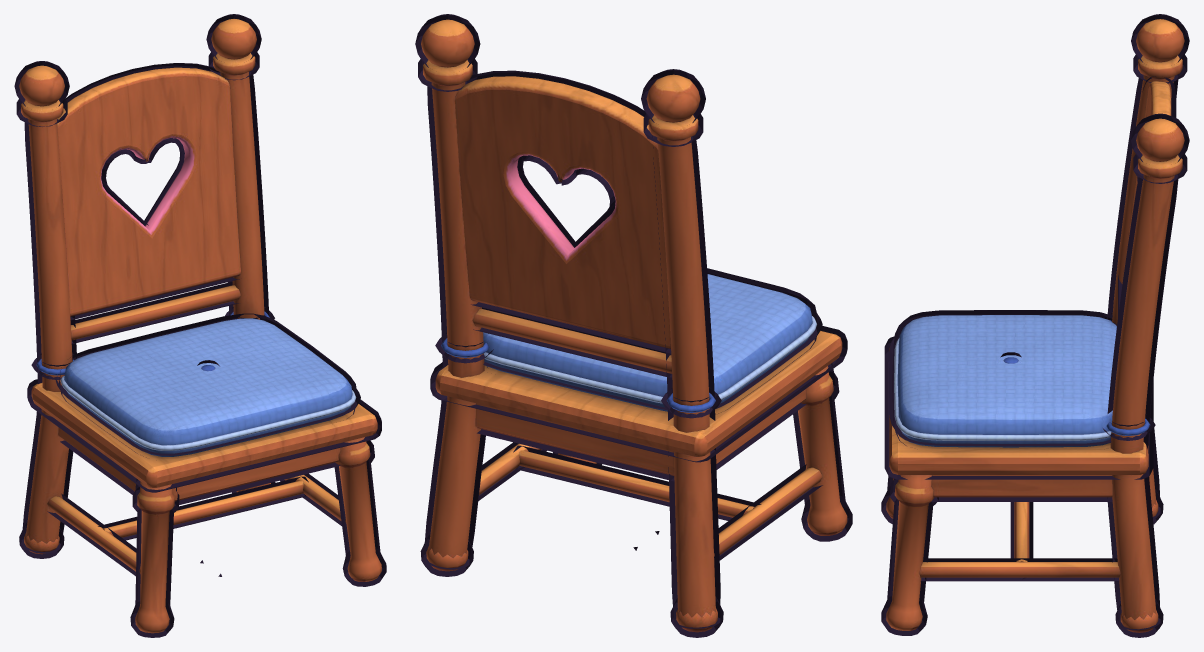
The model's file is DeskChair.glb.
3 renders of one model, left to right at view 1: azimuth 30°, elevation 25°; view 2: azimuth 150°, elevation 25°; view 3: azimuth 270°, elevation 25°, orthographic. The views are drawn at different scales.
Visible parts, largest first — view 1: DeskChair, DeskChair_Outline; view 2: DeskChair, DeskChair_Outline; view 3: DeskChair, DeskChair_Outline.
Part boxes in pixels (bbox=[...]): DeskChair: bbox=[19, 19, 381, 633]; DeskChair_Outline: bbox=[14, 14, 386, 637]; DeskChair: bbox=[421, 19, 847, 632]; DeskChair_Outline: bbox=[415, 14, 852, 637]; DeskChair: bbox=[886, 19, 1184, 632]; DeskChair_Outline: bbox=[881, 14, 1189, 637].
Size of the model in its own units: 7.86 by 14.32 by 7.86.
Materials: 2 (2 with a texture image).
